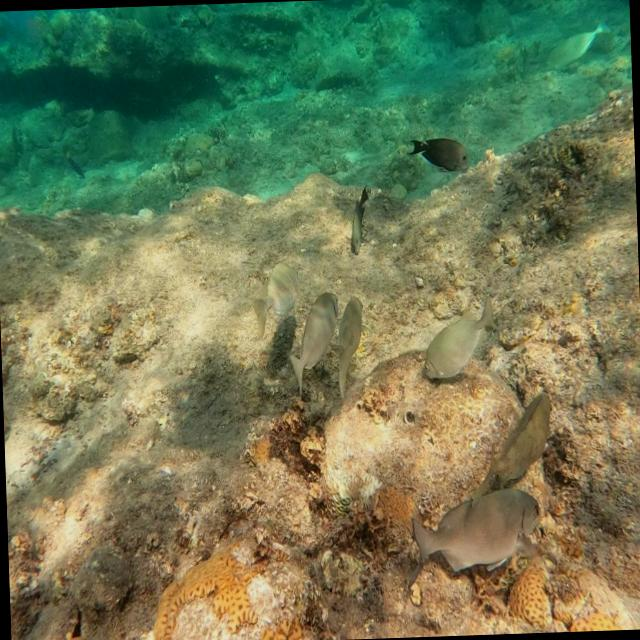Sokar Baligi: (414, 285, 506, 393), (406, 126, 474, 178)
